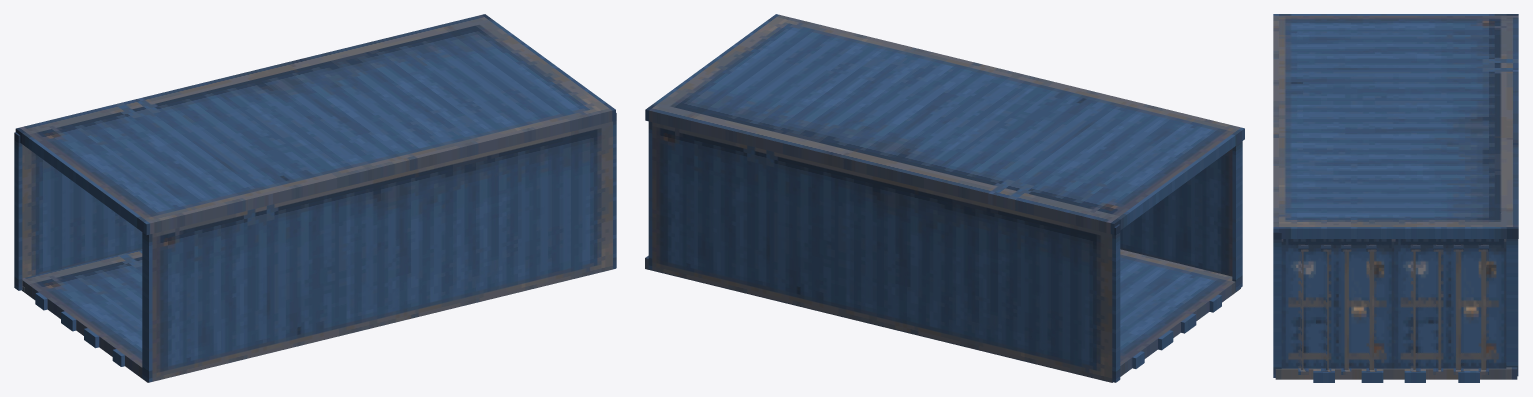
Rendered from shell.glb.
The picture shows the model from 3 angles, left to right: view 1: azimuth 30°, elevation 25°; view 2: azimuth 150°, elevation 25°; view 3: azimuth 270°, elevation 25°; orthographic projection. The views are drawn at different scales.
Parts seen in each view (by area): view 1: 38_3_door.001_38_3_door.001; view 2: 38_3_door.001_38_3_door.001; view 3: 38_3_door.001_38_3_door.001.
Part boxes in pixels (bbox=[...]): 38_3_door.001_38_3_door.001: bbox=[14, 14, 616, 382]; 38_3_door.001_38_3_door.001: bbox=[645, 14, 1244, 382]; 38_3_door.001_38_3_door.001: bbox=[1273, 14, 1518, 382].
Bounding box in the file's own units: 25.94 × 8.28 × 12.26.
Materials: 2 (2 with a texture image).
